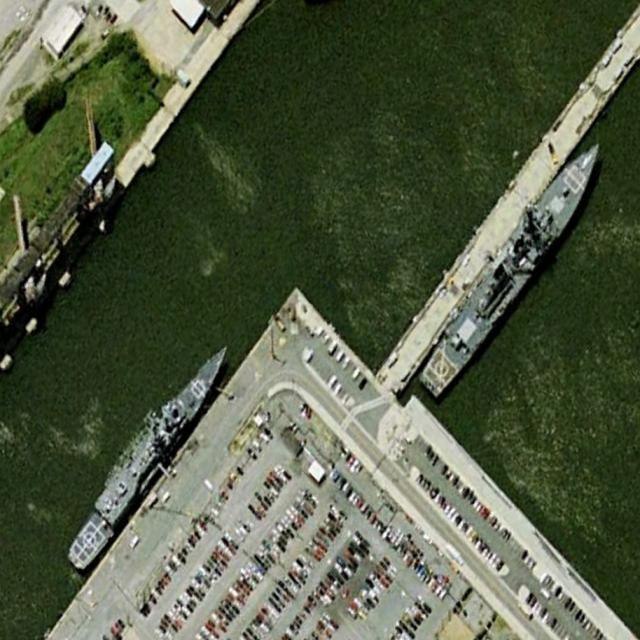Destroyer: (412, 127, 615, 404)
Frigate: (60, 331, 239, 577)
